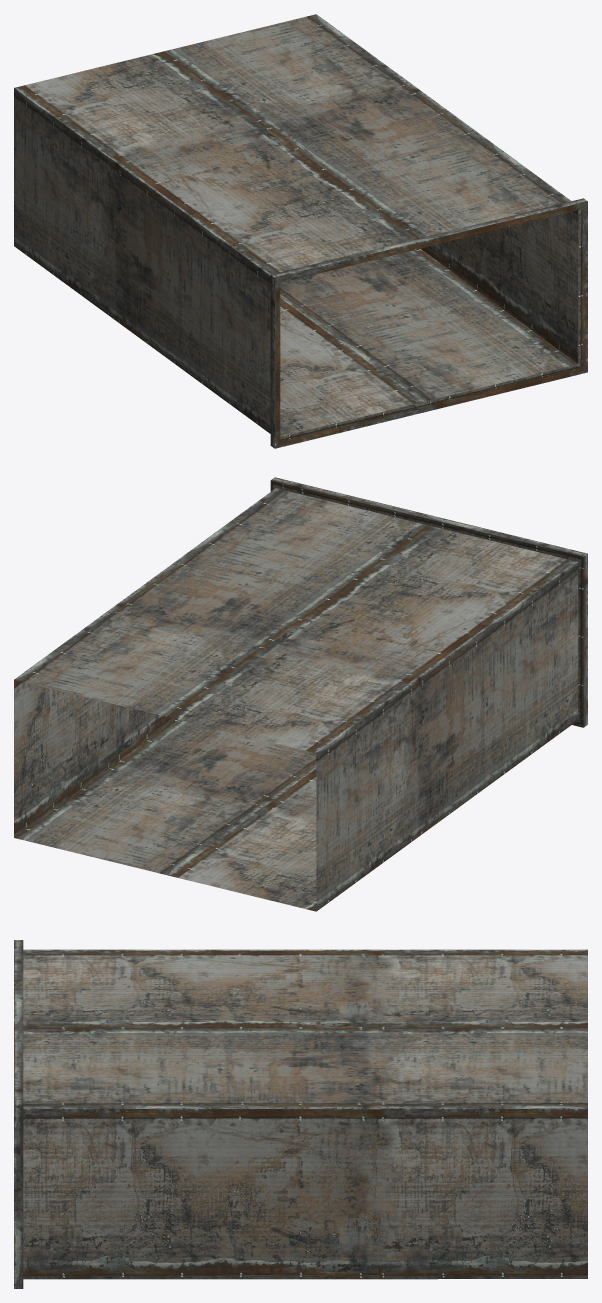
The model's file is FlatVent.fbx.
3 views of the same model, one above another, from view 1: azimuth 30°, elevation 25°; view 2: azimuth 150°, elevation 25°; view 3: azimuth 270°, elevation 25° (orthographic). The views are drawn at different scales.
Visible parts, largest first — view 1: mesh_0.2132; view 2: mesh_0.2132; view 3: mesh_0.2132.
Boxes of the visible parts, x1,y1,x2,y2 form: mesh_0.2132: [14, 14, 587, 448]; mesh_0.2132: [14, 477, 587, 911]; mesh_0.2132: [14, 940, 587, 1288].
Size of the model in its own units: 2.07 by 1.08 by 3.05.
